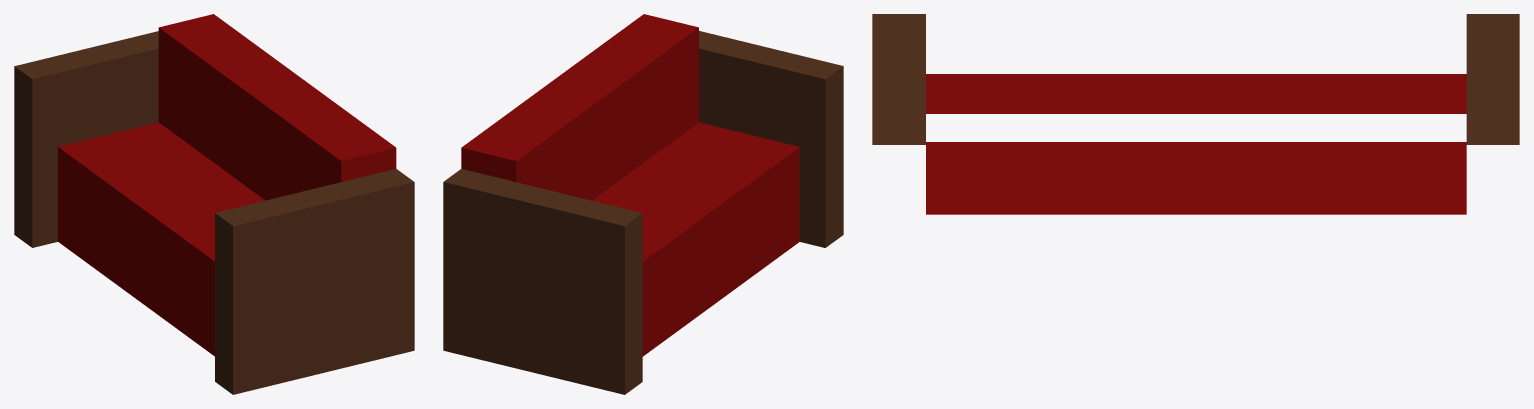
Rendered from couch.glb.
The picture shows the model from 3 angles, left to right: view 1: azimuth 30°, elevation 25°; view 2: azimuth 150°, elevation 25°; view 3: azimuth 270°, elevation 25°; orthographic projection. The views are drawn at different scales.
Visible parts, largest first — view 1: couch; view 2: couch; view 3: couch.
Boxes of the visible parts, x1,y1,x2,y2 form: couch: (14,14,414,394); couch: (443,14,843,394); couch: (872,14,1519,214).
Bounding box in the file's own units: 0.9 × 0.8999 × 1.88.
